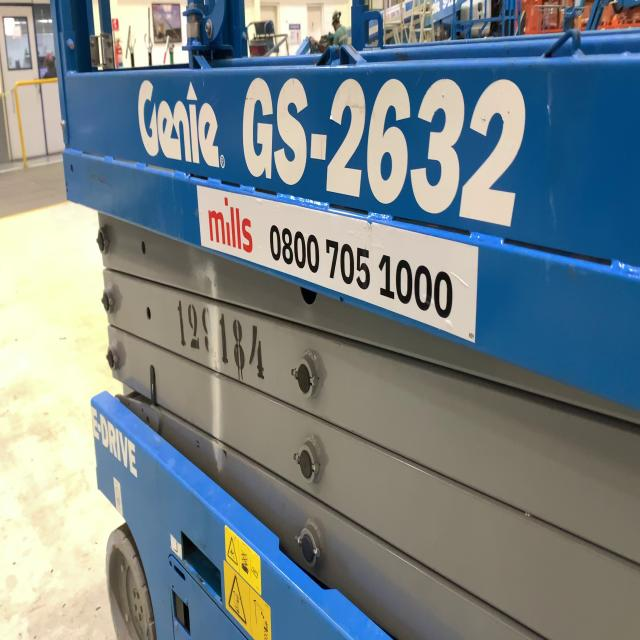Adesivo Longo: (195, 181, 481, 347)
